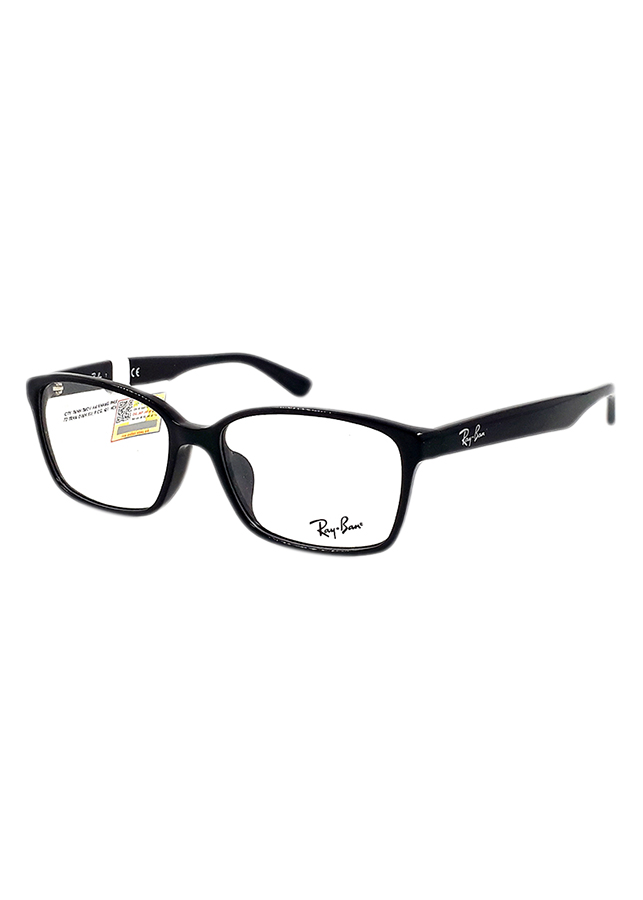Rayban: (303, 509, 370, 543), (455, 417, 489, 455)
